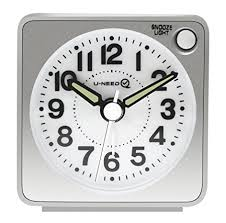alarm_clock: (15, 12, 209, 212)
